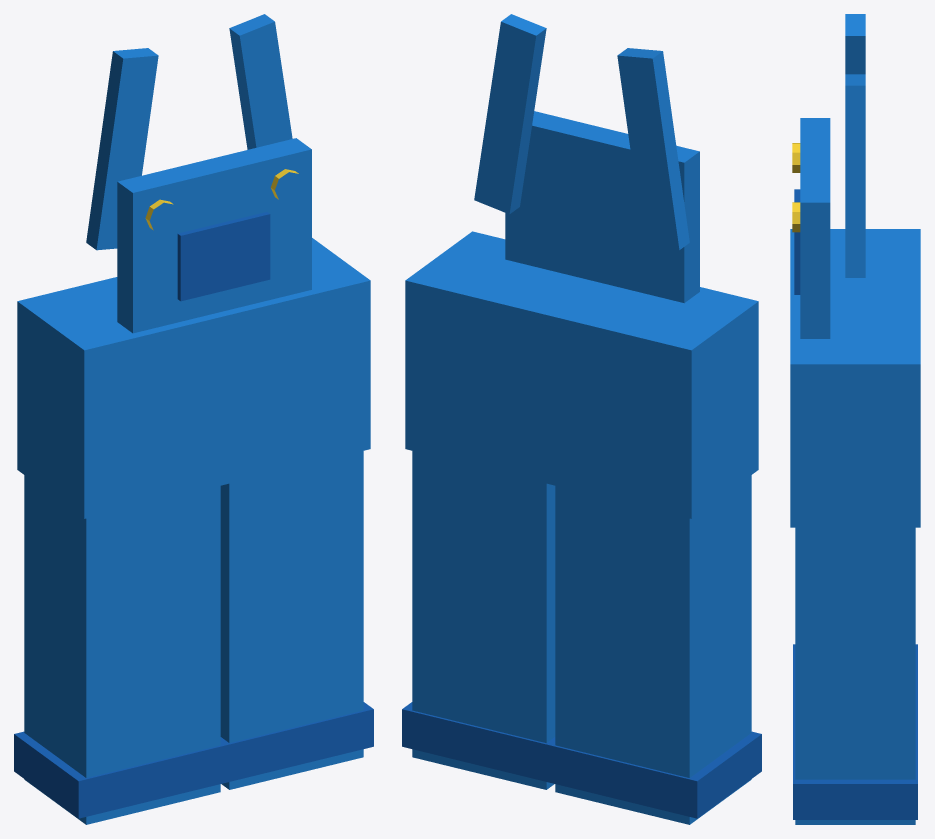
File: overall.glb
3 views of the same model, side by side, from view 1: azimuth 30°, elevation 25°; view 2: azimuth 150°, elevation 25°; view 3: azimuth 270°, elevation 25° (orthographic). The views are drawn at different scales.
Visible parts, largest first — view 1: overall; view 2: overall; view 3: overall.
Boxes of the visible parts, <box> form: overall: <box>14,14,373,824</box>; overall: <box>402,14,761,824</box>; overall: <box>790,14,920,824</box>.
Size of the model in its own units: 0.33 by 0.7819 by 0.13.
